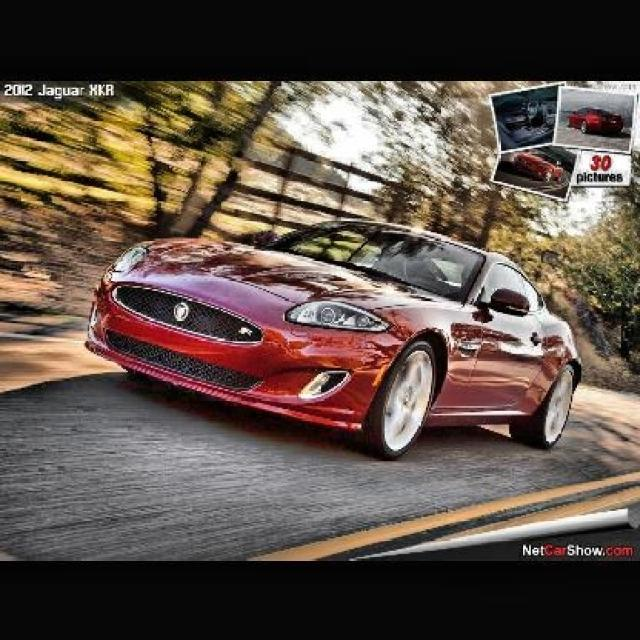maroon: (72, 198, 564, 456)
